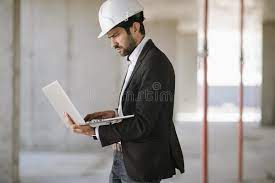casque: (72, 1, 185, 180)
